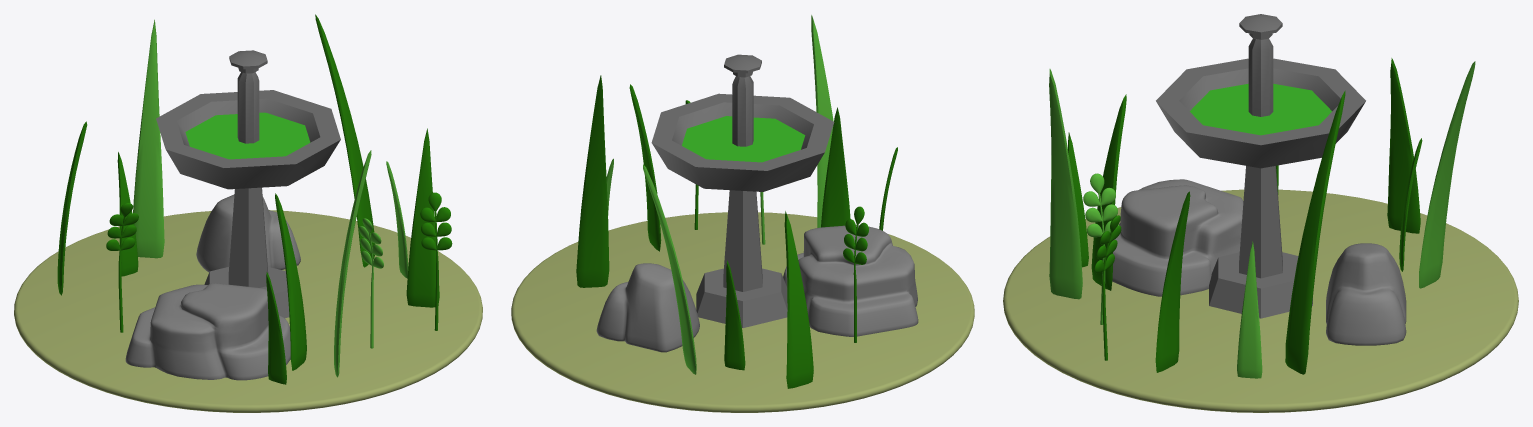
Rendered from heartworm-environment.gltf.
3 renders of one model, left to right at view 1: azimuth 30°, elevation 25°; view 2: azimuth 150°, elevation 25°; view 3: azimuth 270°, elevation 25°, orthographic. The views are drawn at different scales.
Parts seen in each view (by area): view 1: Base, medium_rock_1, Tope, Plane.5, water, Cylinder.1, medium_rock_2, Plane.6, Plane.8, Plane, Cylinder.2, stem_2 (+9 smaller); view 2: Base, medium_rock_1, Tope, medium_rock_2, Plane.8, water, Cylinder, Cylinder.1, Plane.3, Plane, Plane.5, Plane.2 (+5 smaller); view 3: Base, medium_rock_1, Tope, medium_rock_2, Plane.2, water, Plane.8, Cylinder.1, Plane.5, Cylinder, Plane.3, Plane.6 (+8 smaller).
Boxes of the visible parts, x1,y1,x2,y2 form: Base: [14, 210, 482, 412]; medium_rock_1: [125, 283, 290, 380]; Tope: [156, 90, 340, 189]; Plane.5: [133, 19, 164, 258]; water: [185, 112, 310, 159]; Cylinder.1: [228, 187, 268, 287]; medium_rock_2: [196, 194, 300, 272]; Plane.6: [406, 128, 439, 307]; Plane.8: [315, 14, 374, 267]; Plane: [275, 193, 306, 370]; Cylinder.2: [237, 72, 259, 143]; stem_2: [420, 192, 452, 330]; Base: [511, 212, 974, 412]; medium_rock_1: [783, 225, 918, 336]; Tope: [651, 93, 834, 191]; medium_rock_2: [596, 263, 699, 352]; Plane.8: [576, 75, 609, 287]; water: [682, 116, 805, 162]; Cylinder: [696, 268, 787, 327]; Cylinder.1: [723, 190, 762, 291]; Plane.3: [784, 211, 813, 388]; Plane: [821, 107, 850, 227]; Plane.5: [643, 164, 696, 374]; Plane.2: [811, 15, 833, 227]; Base: [1003, 189, 1518, 412]; medium_rock_1: [1112, 179, 1243, 296]; Tope: [1156, 58, 1365, 168]; medium_rock_2: [1326, 243, 1406, 345]; Plane.2: [1049, 69, 1082, 299]; water: [1190, 83, 1331, 135]; Plane.8: [1285, 90, 1345, 374]; Cylinder.1: [1239, 166, 1282, 278]; Plane.5: [1419, 61, 1475, 288]; Cylinder: [1209, 252, 1312, 318]; Plane.3: [1387, 58, 1420, 233]; Plane.6: [1155, 191, 1190, 372].
Size of the model in its own units: 9.46 by 5.82 by 9.46.
